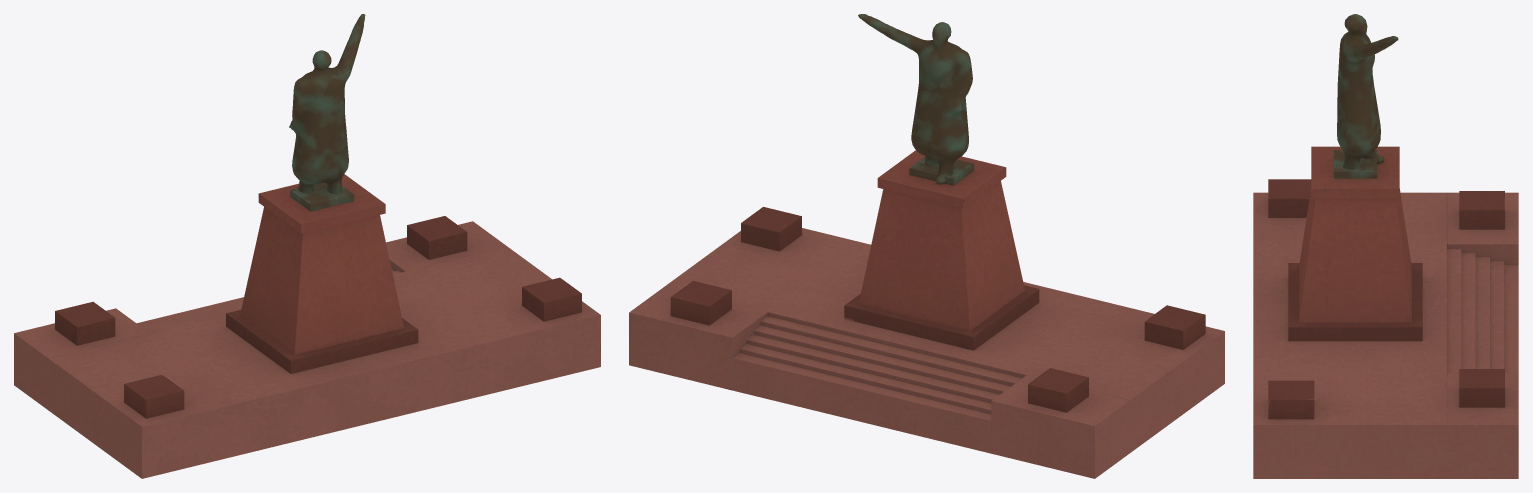
File: lenin_monument_lod1.glb
3 views of the same model, side by side, from view 1: azimuth 30°, elevation 25°; view 2: azimuth 150°, elevation 25°; view 3: azimuth 270°, elevation 25° (orthographic). The views are drawn at different scales.
Visible parts, largest first — view 1: lenin_monument_lod1; view 2: lenin_monument_lod1; view 3: lenin_monument_lod1.
Part boxes in pixels (x1,y1,x2,y2): lenin_monument_lod1: (14, 14, 600, 478); lenin_monument_lod1: (629, 14, 1224, 478); lenin_monument_lod1: (1253, 14, 1518, 478).
Size of the model in its own units: 18 by 12.87 by 8.7.
3 materials, 3 textured.
